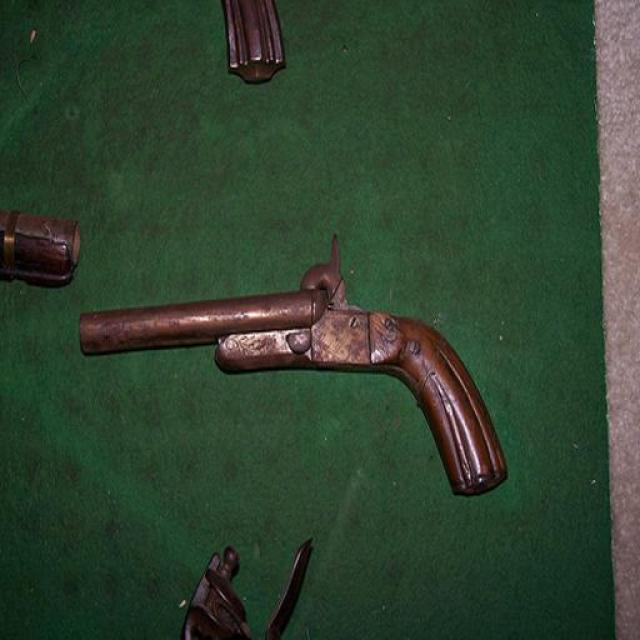pistol: (72, 233, 506, 498)
